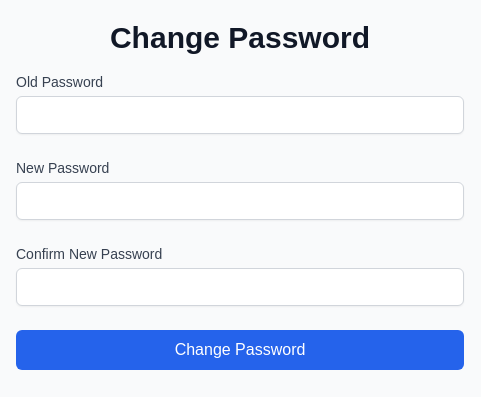
Test: ChangePasswordForm › shows error when passwords do not match
In the password field labelled "Old Password": (240, 115) [16,96,464,134], type "oldpass123"
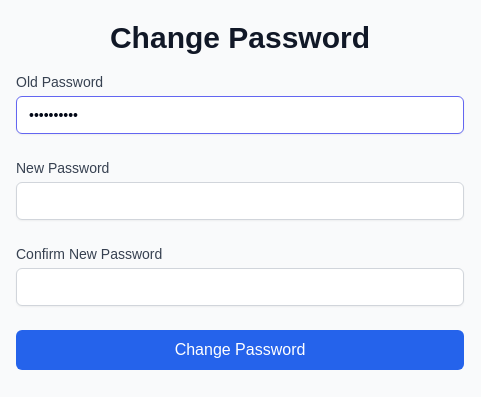
In the password field labelled "New Password": (240, 201) [16,182,464,220], type "newpass123"
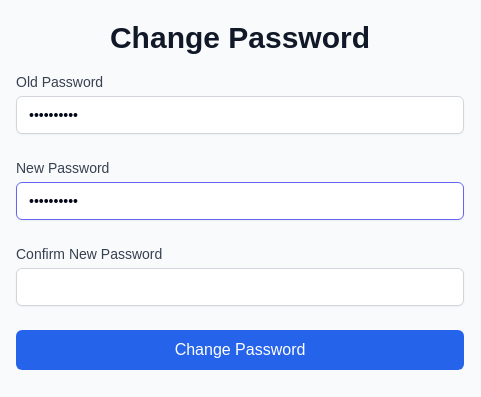
In the password field labelled "Confirm New Password": (240, 287) [16,268,464,306], type "different123"
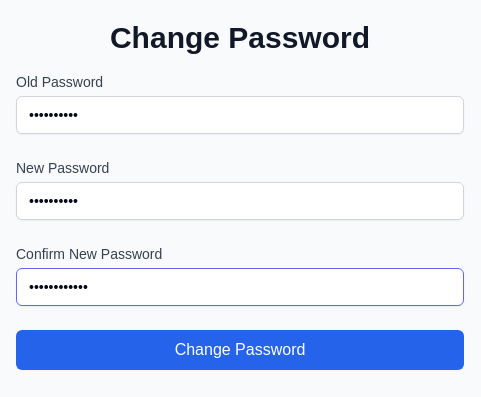
Click the button "Change Password": click(240, 350) [16,330,464,370]
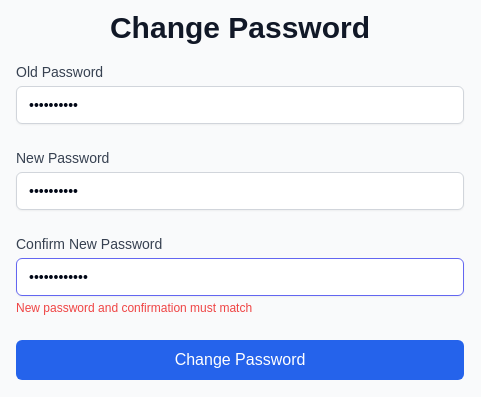
Check: the text "New password and confirmation must match" is shown, box [16,301,252,315]
